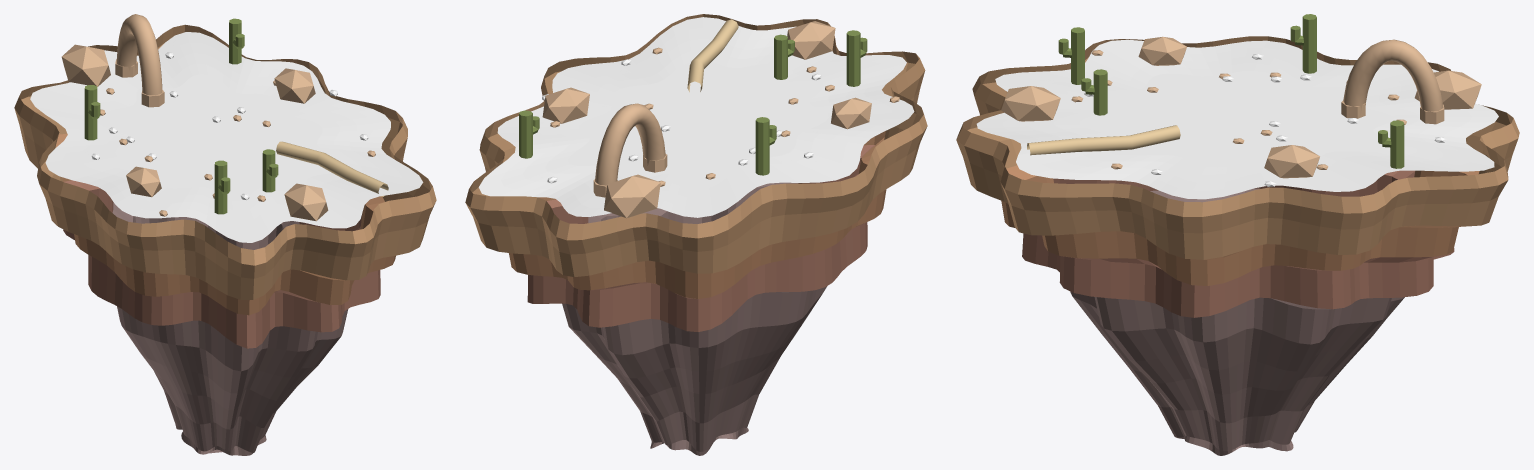
The model's file is FI-024-Suncleft-Buttes.glb.
3 renders of one model, left to right at view 1: azimuth 30°, elevation 25°; view 2: azimuth 150°, elevation 25°; view 3: azimuth 270°, elevation 25°, orthographic. The views are drawn at different scales.
Parts seen in each view (by area): view 1: FI-024_StratifiedFloatingCliff, FI-024_BuildableTop, SunspineNaturalArch, DryWash, SandstoneBoulder_01, SandstoneBoulder_00, SandstoneBoulder_03, SandstoneBoulder_02, Saguaro_02_Trunk, Saguaro_00_Trunk, Saguaro_01_Trunk, Saguaro_03_Trunk; view 2: FI-024_StratifiedFloatingCliff, FI-024_BuildableTop, SunspineNaturalArch, SandstoneBoulder_01, SandstoneBoulder_00, SandstoneBoulder_03, DryWash, SandstoneBoulder_02, Saguaro_02_Trunk, Saguaro_00_Trunk, Saguaro_03_Trunk, Saguaro_01_Trunk; view 3: FI-024_StratifiedFloatingCliff, FI-024_BuildableTop, SunspineNaturalArch, DryWash, SandstoneBoulder_00, SandstoneBoulder_03, SandstoneBoulder_01, SandstoneBoulder_02, Saguaro_02_Trunk, Saguaro_00_Trunk, Saguaro_03_Trunk, Saguaro_01_Trunk.
Part boxes in pixels (left/top/right/bottom): FI-024_StratifiedFloatingCliff: left=14, top=24, right=436, bottom=455; FI-024_BuildableTop: left=30, top=32, right=423, bottom=242; SunspineNaturalArch: left=116, top=14, right=162, bottom=95; DryWash: left=276, top=141, right=388, bottom=196; SandstoneBoulder_01: left=61, top=44, right=110, bottom=86; SandstoneBoulder_00: left=284, top=183, right=328, bottom=221; SandstoneBoulder_03: left=274, top=68, right=315, bottom=103; SandstoneBoulder_02: left=126, top=166, right=161, bottom=197; Saguaro_02_Trunk: left=84, top=85, right=97, bottom=140; Saguaro_00_Trunk: left=214, top=160, right=227, bottom=214; Saguaro_01_Trunk: left=262, top=149, right=275, bottom=192; Saguaro_03_Trunk: left=229, top=18, right=241, bottom=64; FI-024_StratifiedFloatingCliff: left=465, top=14, right=927, bottom=455; FI-024_BuildableTop: left=478, top=17, right=914, bottom=217; SunspineNaturalArch: left=595, top=103, right=665, bottom=185; SandstoneBoulder_01: left=604, top=174, right=660, bottom=218; SandstoneBoulder_00: left=787, top=21, right=835, bottom=59; SandstoneBoulder_03: left=542, top=87, right=589, bottom=123; DryWash: left=687, top=19, right=738, bottom=92; SandstoneBoulder_02: left=831, top=97, right=871, bottom=129; Saguaro_02_Trunk: left=755, top=117, right=769, bottom=175; Saguaro_00_Trunk: left=846, top=30, right=860, bottom=86; Saguaro_03_Trunk: left=519, top=110, right=532, bottom=158; Saguaro_01_Trunk: left=774, top=34, right=787, bottom=79; FI-024_StratifiedFloatingCliff: left=956, top=36, right=1519, bottom=455; FI-024_BuildableTop: left=976, top=39, right=1498, bottom=199; SunspineNaturalArch: left=1343, top=39, right=1443, bottom=118; DryWash: left=1027, top=125, right=1180, bottom=155; SandstoneBoulder_00: left=1001, top=86, right=1060, bottom=121; SandstoneBoulder_03: left=1264, top=145, right=1319, bottom=178; SandstoneBoulder_01: left=1414, top=70, right=1481, bottom=109; SandstoneBoulder_02: left=1138, top=36, right=1186, bottom=65; Saguaro_02_Trunk: left=1302, top=14, right=1316, bottom=73; Saguaro_00_Trunk: left=1071, top=27, right=1084, bottom=84; Saguaro_03_Trunk: left=1390, top=120, right=1404, bottom=168; Saguaro_01_Trunk: left=1093, top=69, right=1107, bottom=115.
Bounding box in the file's own units: 9.64 × 10.3 × 13.3.
